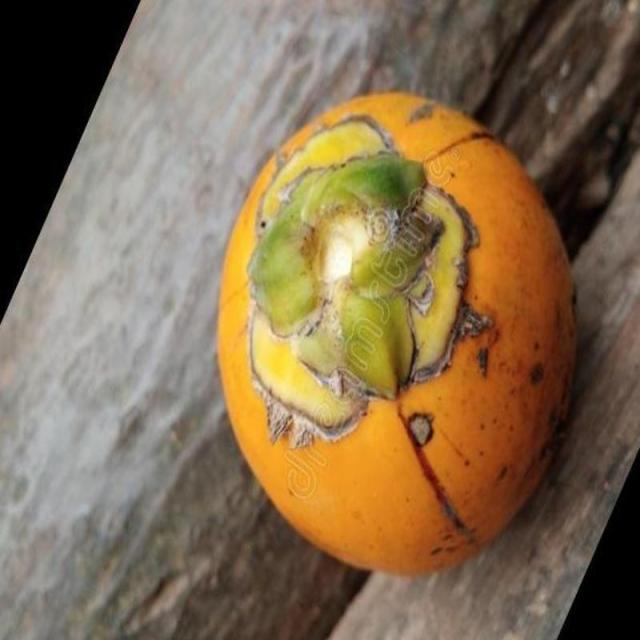good: (218, 99, 576, 579)
